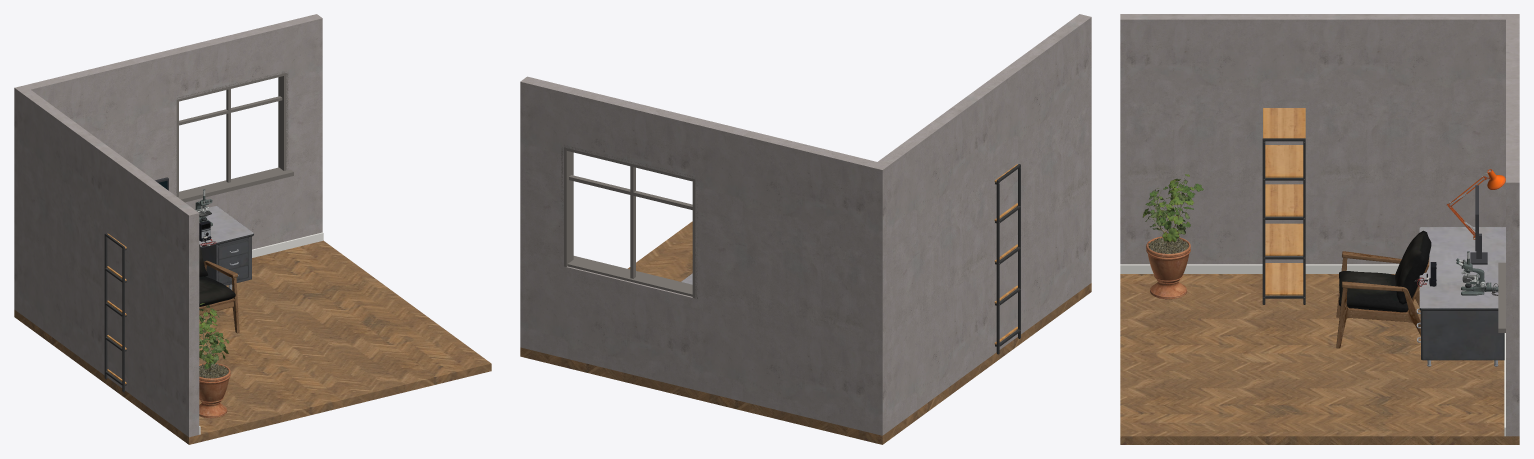
File: lab_corner.glb
3 renders of one model, left to right at view 1: azimuth 30°, elevation 25°; view 2: azimuth 150°, elevation 25°; view 3: azimuth 270°, elevation 25°, orthographic. The views are drawn at different scales.
Parts seen in each view (by area): view 1: Lab_shell, Lab_props, Lab_foliage; view 2: Lab_shell, Lab_props; view 3: Lab_shell, Lab_props, Lab_foliage.
Boxes of the visible parts, x1,y1,x2,y2 form: Lab_shell: (14,14,491,444); Lab_props: (104,189,253,418); Lab_foliage: (199,303,229,369); Lab_shell: (520,14,1091,444); Lab_props: (681,164,1020,354); Lab_shell: (1120,14,1519,444); Lab_props: (1146,108,1505,366); Lab_foliage: (1142,174,1203,241).
Bounding box in the file's own units: 4.19 × 3 × 4.14.
17 materials, 14 textured.
